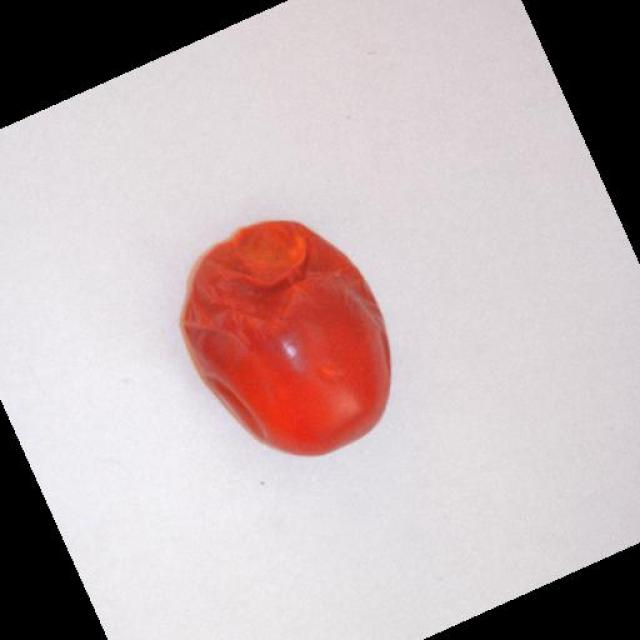Stale_tomato: (175, 241, 411, 447)
